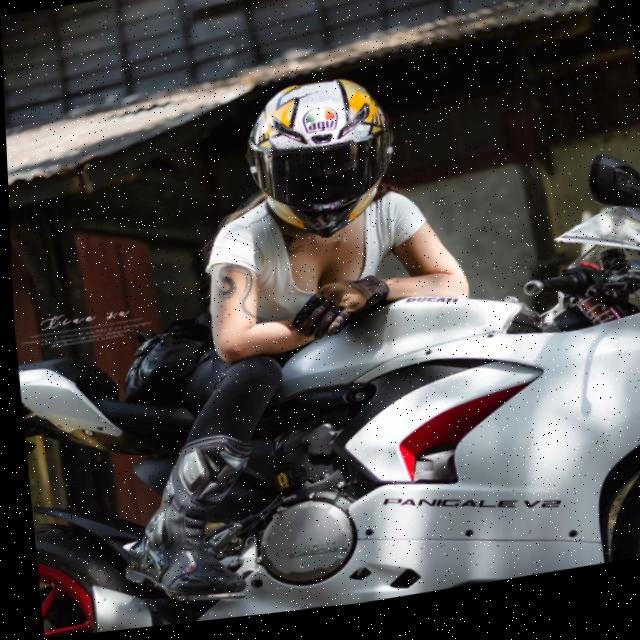helmet: (229, 69, 407, 262)
